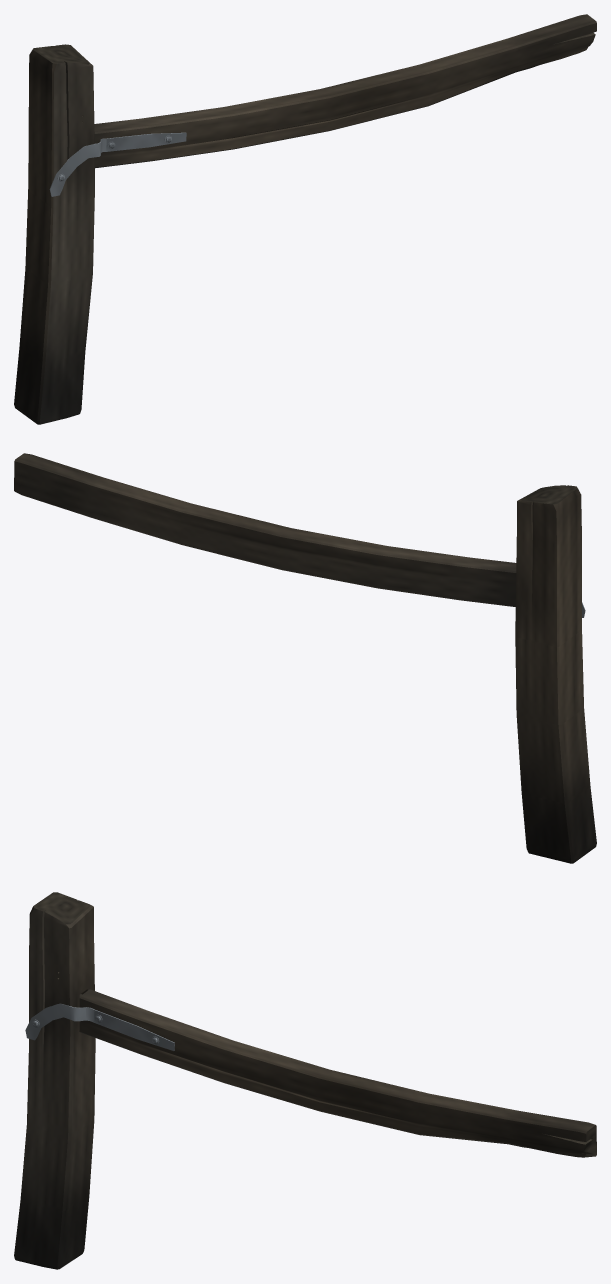
The model's file is rural_fence_post_01.glb.
3 views of the same model, one above another, from view 1: azimuth 30°, elevation 25°; view 2: azimuth 150°, elevation 25°; view 3: azimuth 330°, elevation 25° (orthographic).
Visible parts, largest first — view 1: rural_fence_post_01_wood, rural_fence_post_01_bracket; view 2: rural_fence_post_01_wood; view 3: rural_fence_post_01_wood, rural_fence_post_01_bracket.
Part boxes in pixels (x1,y1,x2,y2): rural_fence_post_01_wood: (14, 14, 596, 424); rural_fence_post_01_bracket: (49, 132, 186, 196); rural_fence_post_01_wood: (14, 453, 596, 863); rural_fence_post_01_wood: (14, 892, 596, 1269); rural_fence_post_01_bracket: (25, 1003, 174, 1050).
Size of the model in its own units: 2 by 1.2 by 0.1647.
Materials: 2 (2 with a texture image).
